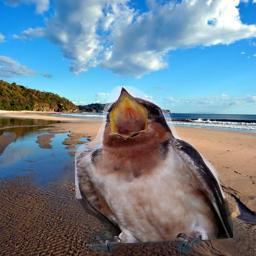Swallow: (75, 86, 233, 253)
